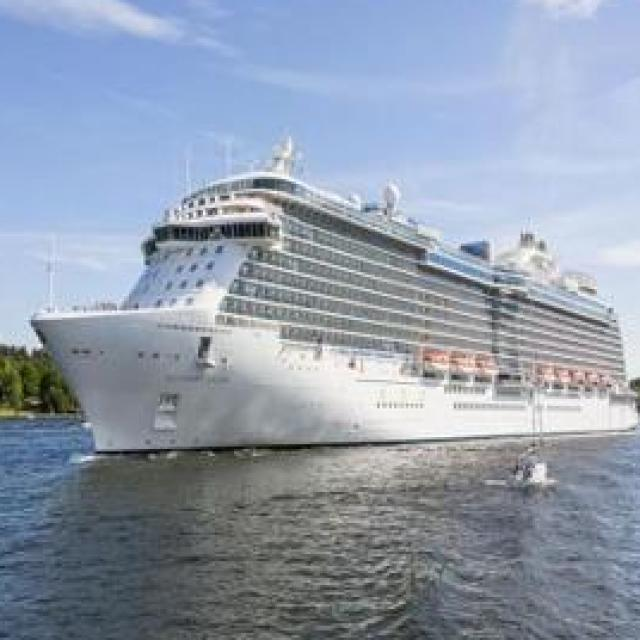passenger ship: (41, 165, 640, 449)
